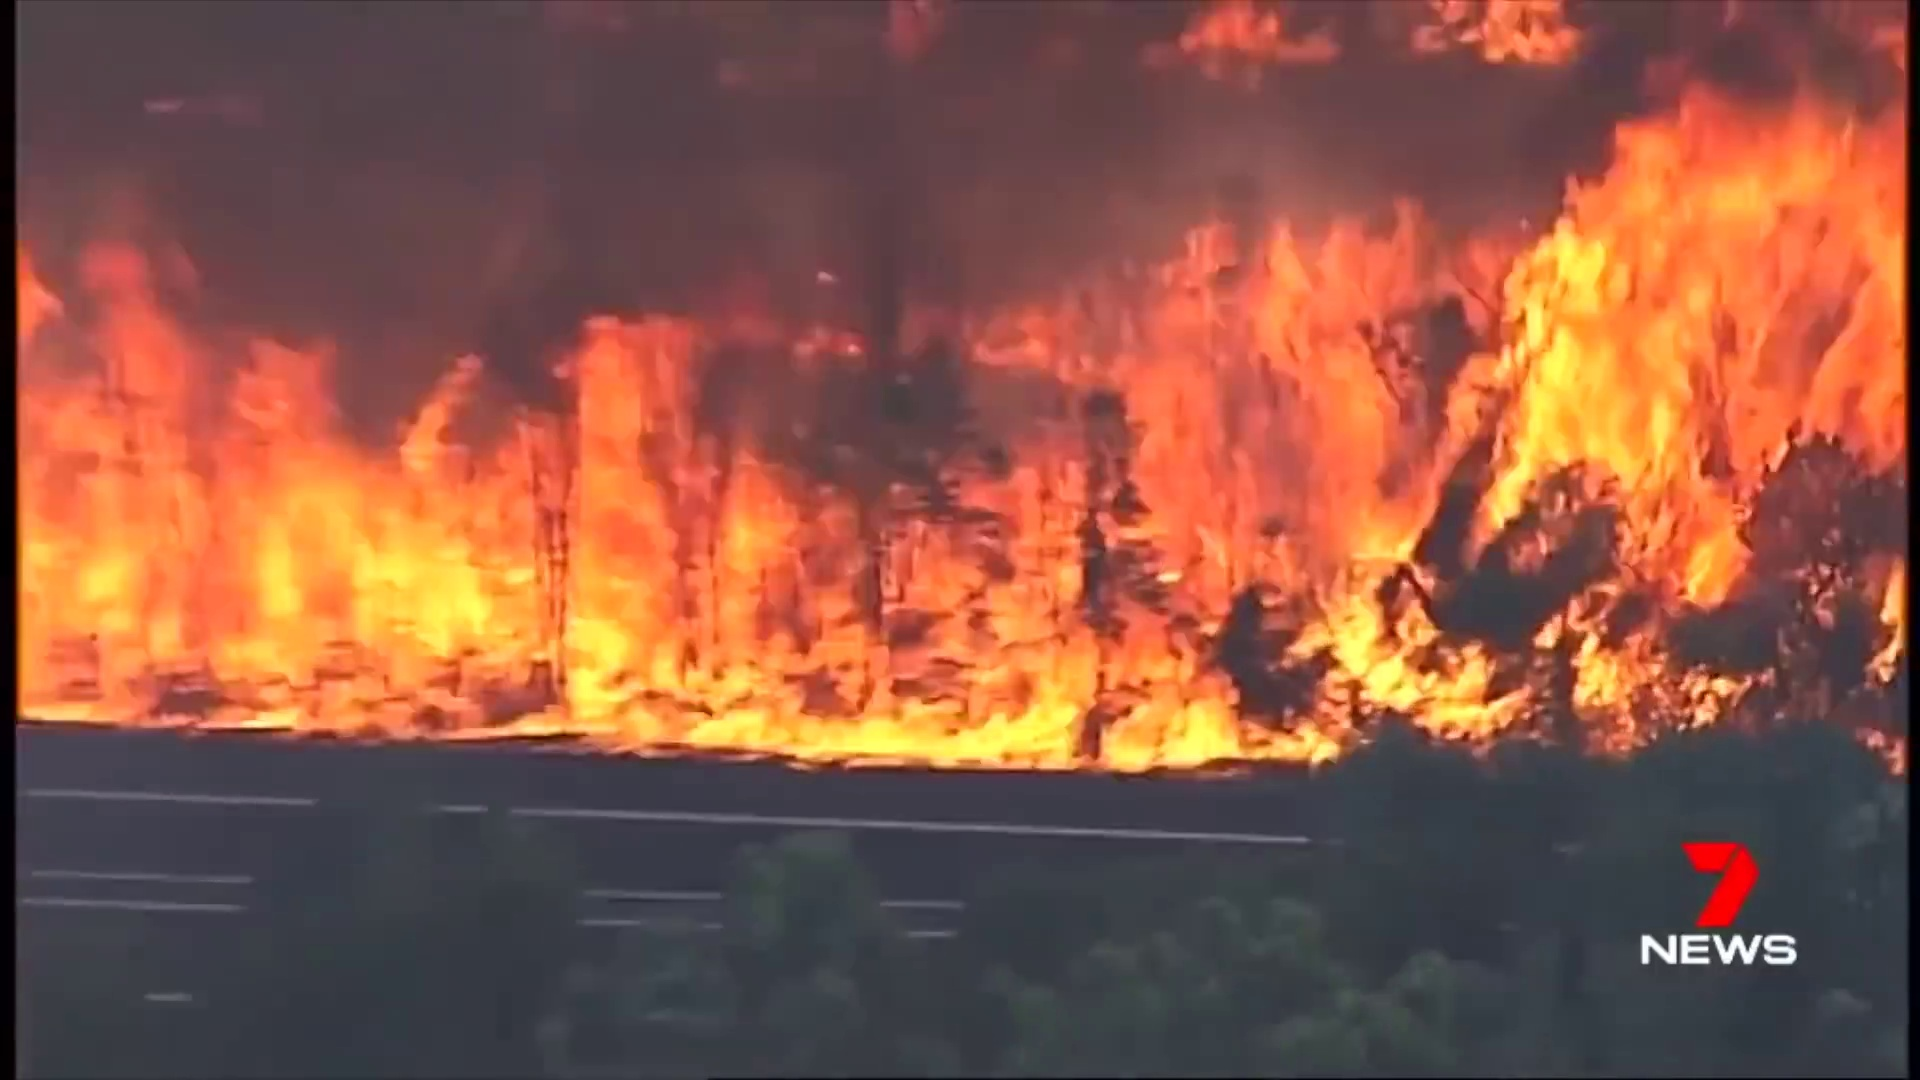fire: (1139, 75, 1915, 556), (7, 299, 807, 745), (794, 527, 1520, 760), (1545, 491, 1750, 733), (1437, 7, 1582, 61)
